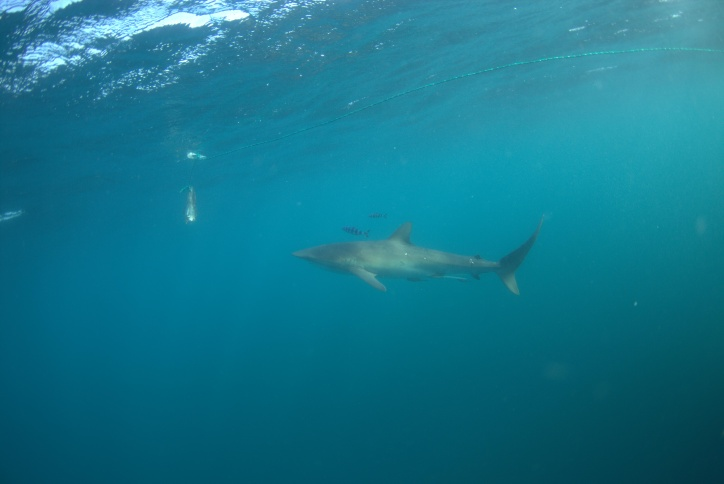Sedoso: (277, 211, 555, 302)
